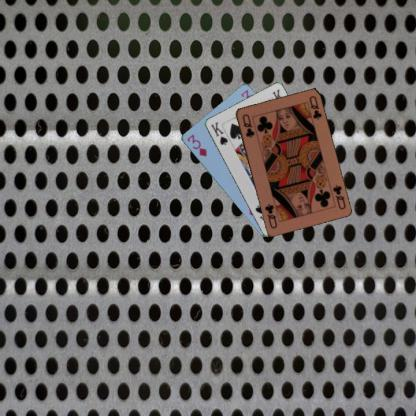3d: (184, 132, 208, 158)
Ks: (208, 119, 229, 146)
Qc: (330, 182, 347, 210), (240, 112, 256, 138)
